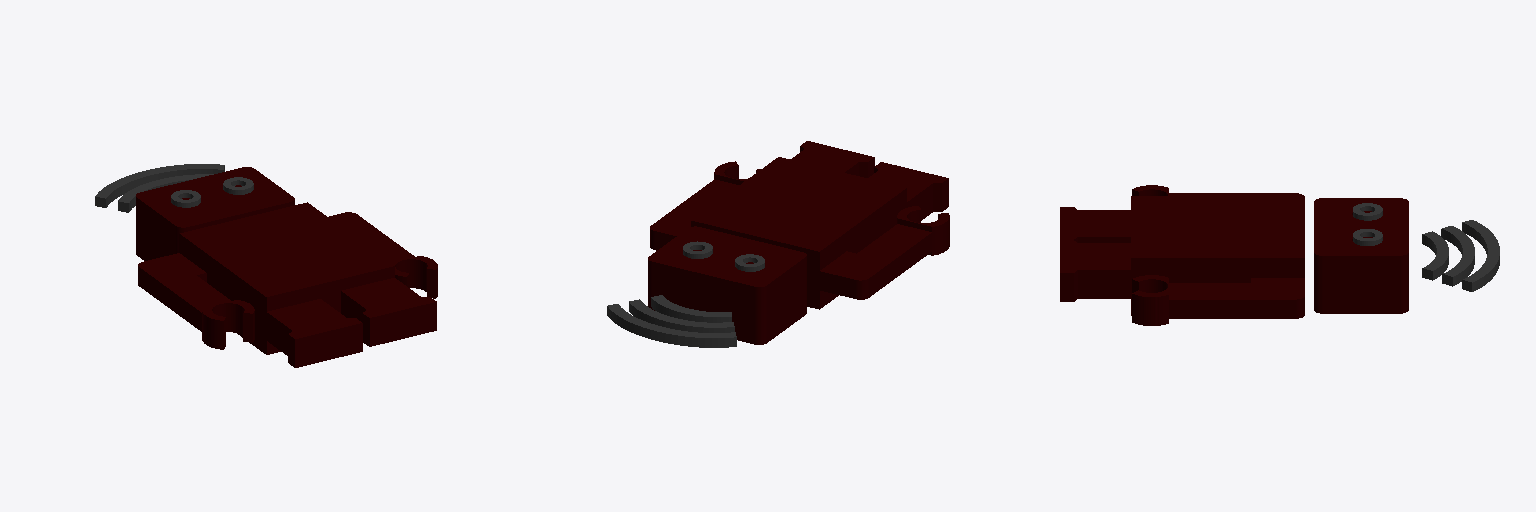
Rendered from final-ralph.obj.
3 views of the same model, side by side, from view 1: azimuth 30°, elevation 25°; view 2: azimuth 150°, elevation 25°; view 3: azimuth 270°, elevation 25° (orthographic).
Visible parts, largest first — view 1: Curve.012, Curve.004, Curve.013, Curve.014, Curve.011, Curve.008, Curve.002, Curve.009, Curve.015, Curve.001; view 2: Curve.012, Curve.004, Curve.011, Curve.013, Curve.002, Curve.009, Curve.014, Curve.001, Curve.008, Curve; view 3: Curve.012, Curve.004, Curve.009, Curve.014, Curve.013, Curve.015, Curve.002, Curve.001, Curve.
Boxes of the visible parts, x1=… form: Curve.012: x1=179, y1=202, x2=394, y2=354; Curve.004: x1=136, y1=167, x2=294, y2=260; Curve.013: x1=267, y1=299, x2=362, y2=367; Curve.014: x1=341, y1=278, x2=436, y2=346; Curve.011: x1=138, y1=253, x2=230, y2=331; Curve.008: x1=202, y1=300, x2=254, y2=349; Curve.002: x1=95, y1=164, x2=224, y2=207; Curve.009: x1=328, y1=212, x2=414, y2=262; Curve.015: x1=391, y1=256, x2=437, y2=298; Curve.001: x1=118, y1=174, x2=213, y2=212; Curve.012: x1=691, y1=157, x2=906, y2=309; Curve.004: x1=648, y1=226, x2=806, y2=344; Curve.011: x1=820, y1=224, x2=931, y2=299; Curve.013: x1=868, y1=162, x2=948, y2=220; Curve.002: x1=607, y1=304, x2=736, y2=347; Curve.009: x1=650, y1=179, x2=738, y2=250; Curve.014: x1=790, y1=141, x2=874, y2=177; Curve.001: x1=629, y1=299, x2=734, y2=332; Curve.008: x1=897, y1=206, x2=949, y2=255; Curve: x1=651, y1=295, x2=731, y2=322; Curve.012: x1=1131, y1=196, x2=1304, y2=315; Curve.004: x1=1314, y1=198, x2=1408, y2=313; Curve.009: x1=1169, y1=278, x2=1304, y2=318; Curve.014: x1=1060, y1=240, x2=1130, y2=301; Curve.013: x1=1060, y1=207, x2=1130, y2=242; Curve.015: x1=1132, y1=275, x2=1168, y2=325; Curve.002: x1=1462, y1=220, x2=1499, y2=291; Curve.001: x1=1441, y1=226, x2=1474, y2=286; Curve: x1=1422, y1=231, x2=1448, y2=280.
Bounding box in the file's own units: 0.0495 × 0.014 × 0.0827.